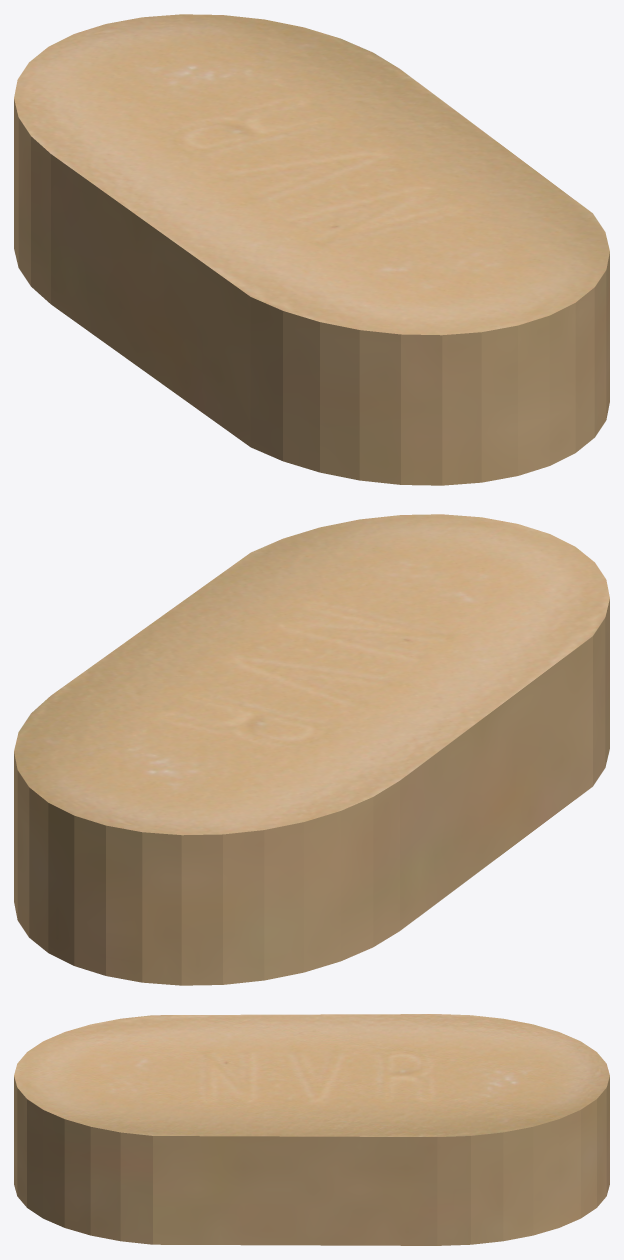
3 views of the same model, one above another, from view 1: azimuth 30°, elevation 25°; view 2: azimuth 150°, elevation 25°; view 3: azimuth 270°, elevation 25° (orthographic). The views are drawn at different scales.
Parts seen in each view (by area): view 1: 圓柱體; view 2: 圓柱體; view 3: 圓柱體.
Boxes of the visible parts, x1,y1,x2,y2 form: 圓柱體: (14, 14, 609, 485); 圓柱體: (14, 514, 609, 985); 圓柱體: (14, 1014, 609, 1245).
Bounding box in the file's own units: 1.7 × 0.7007 × 3.48.
Materials: 1 (1 with a texture image).
